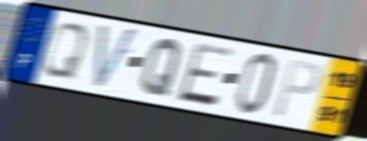0: (233, 51, 279, 116)
E: (174, 40, 237, 109)
P: (270, 57, 325, 120)
Q: (38, 21, 92, 82), (138, 37, 185, 99)
V: (91, 22, 141, 93)
